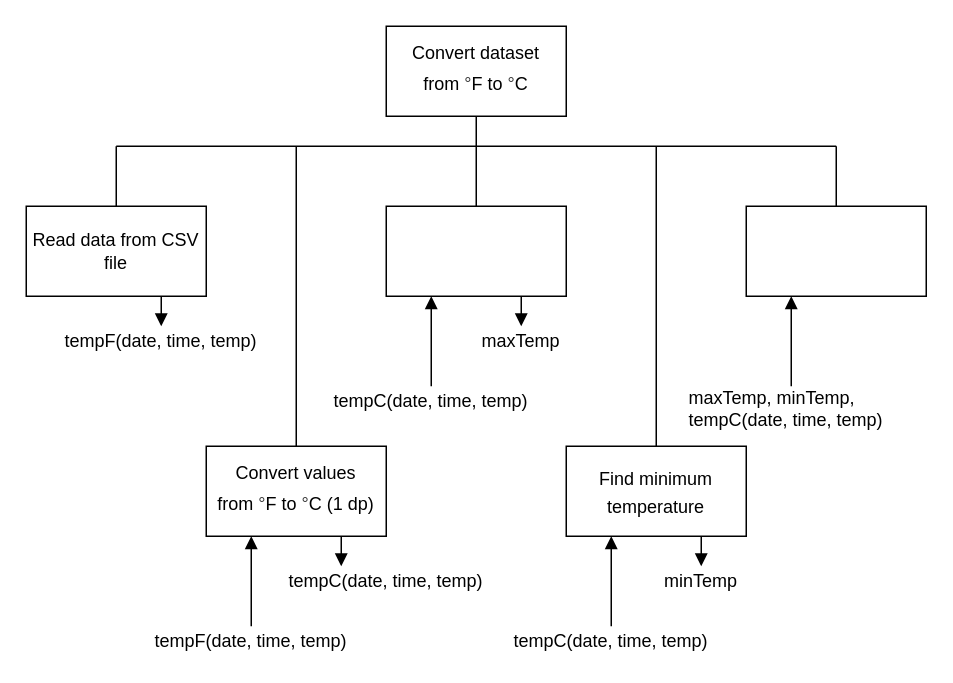
Image size: 953x683. Some labels were removed from this diagram. Each missing label, with the centre of its shape:
Find maximum temperature: pixel 475 250
Write data to CSV file: pixel 835 250
